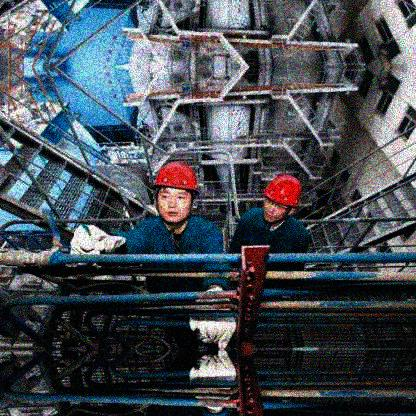helmet: (151, 160, 202, 224), (262, 174, 301, 224)
